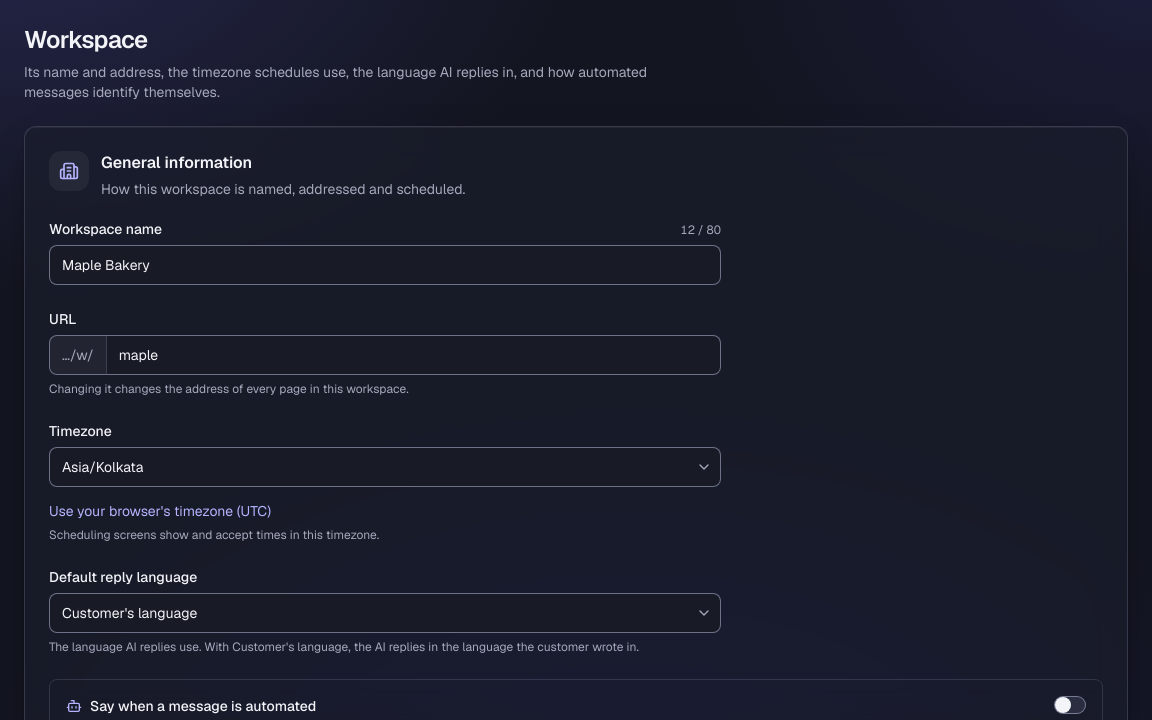
Test: the save bar (C-066) › a failed save says why in place and keeps the changes
Type "!" into the field labelled "Workspace name" at (385, 265), box [49,245,721,285]
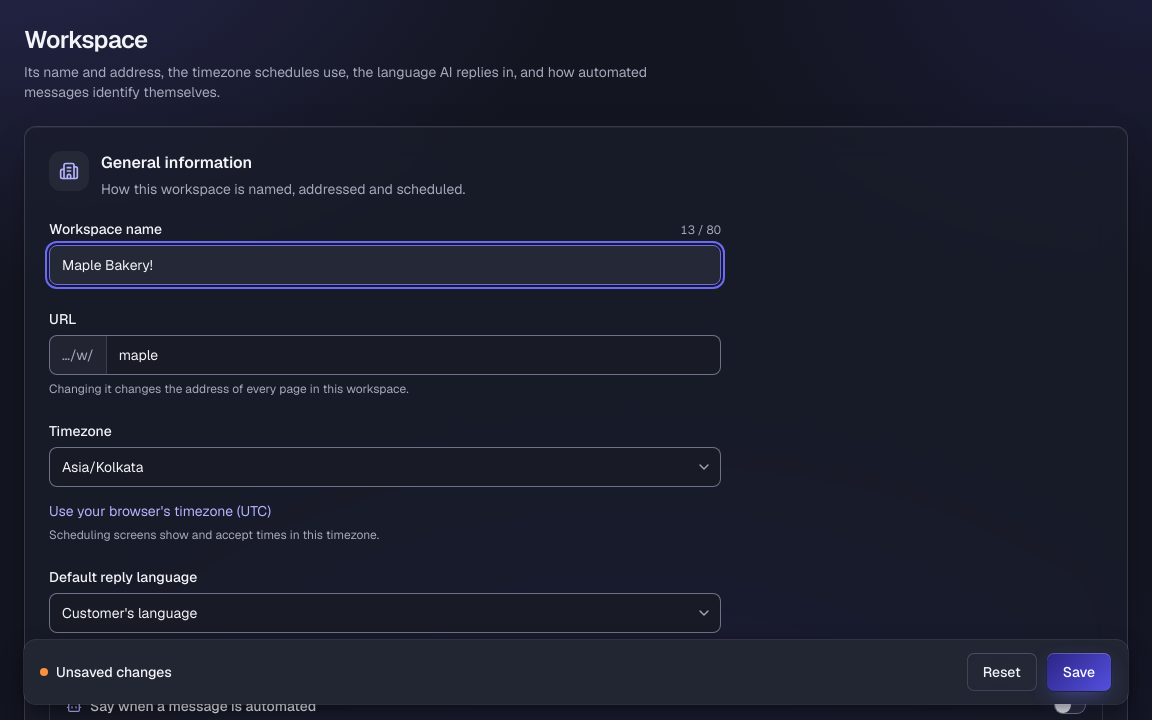
Click the button "Save" at (1079, 672), box [1046,652,1112,692]
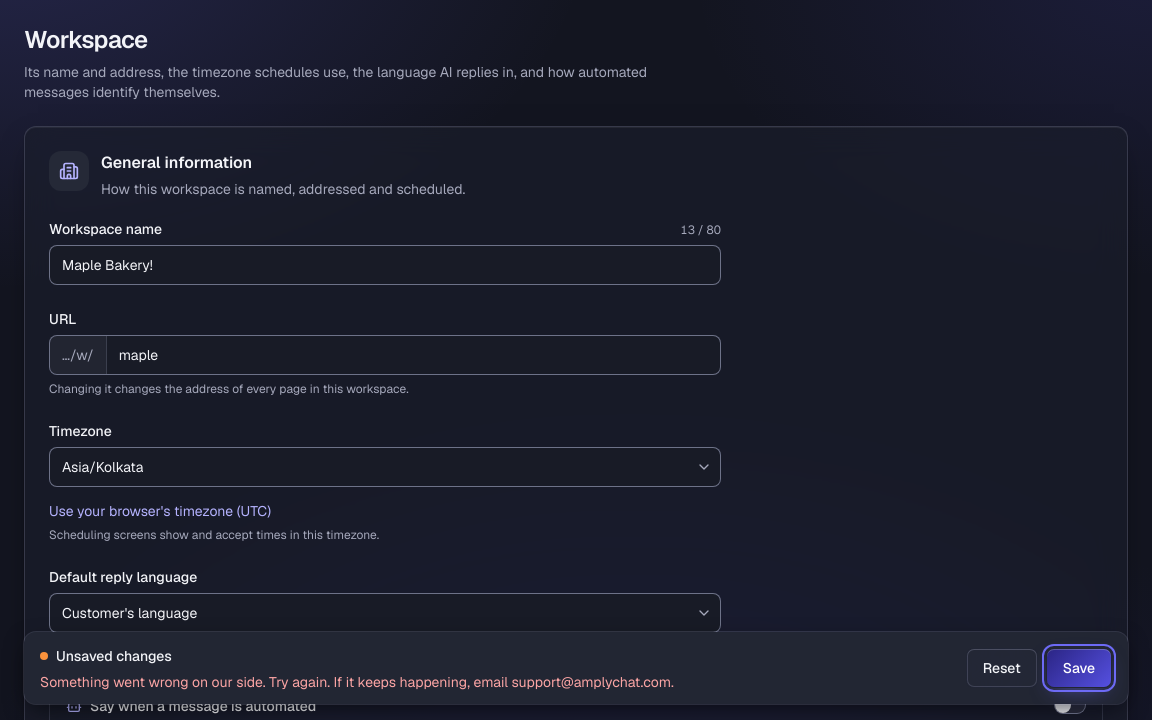
Expected: the field labelled "Workspace name" holds "Maple Bakery!", [49,245,721,285]
Expected: the message "Unsaved changes" is shown, [40,647,172,665]
Expected: the 2nd message shows ".", [40,672,674,692]
